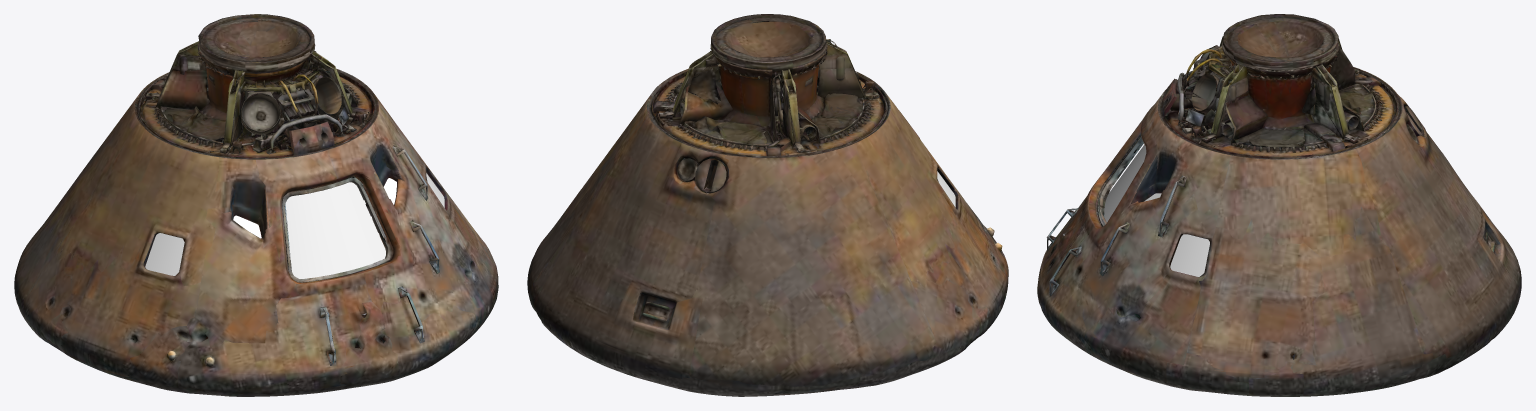
The model's file is thumb.glb.
The picture shows the model from 3 angles, left to right: view 1: azimuth 30°, elevation 25°; view 2: azimuth 150°, elevation 25°; view 3: azimuth 270°, elevation 25°; orthographic projection.
Parts seen in each view (by area): view 1: model; view 2: model; view 3: model.
Part boxes in pixels (<box>): model: <box>14,14,498,396</box>; model: <box>527,14,1008,396</box>; model: <box>1037,14,1521,396</box>.
Bounding box in the file's own units: 3.91 × 2.74 × 3.92.
3 materials, 2 textured.
